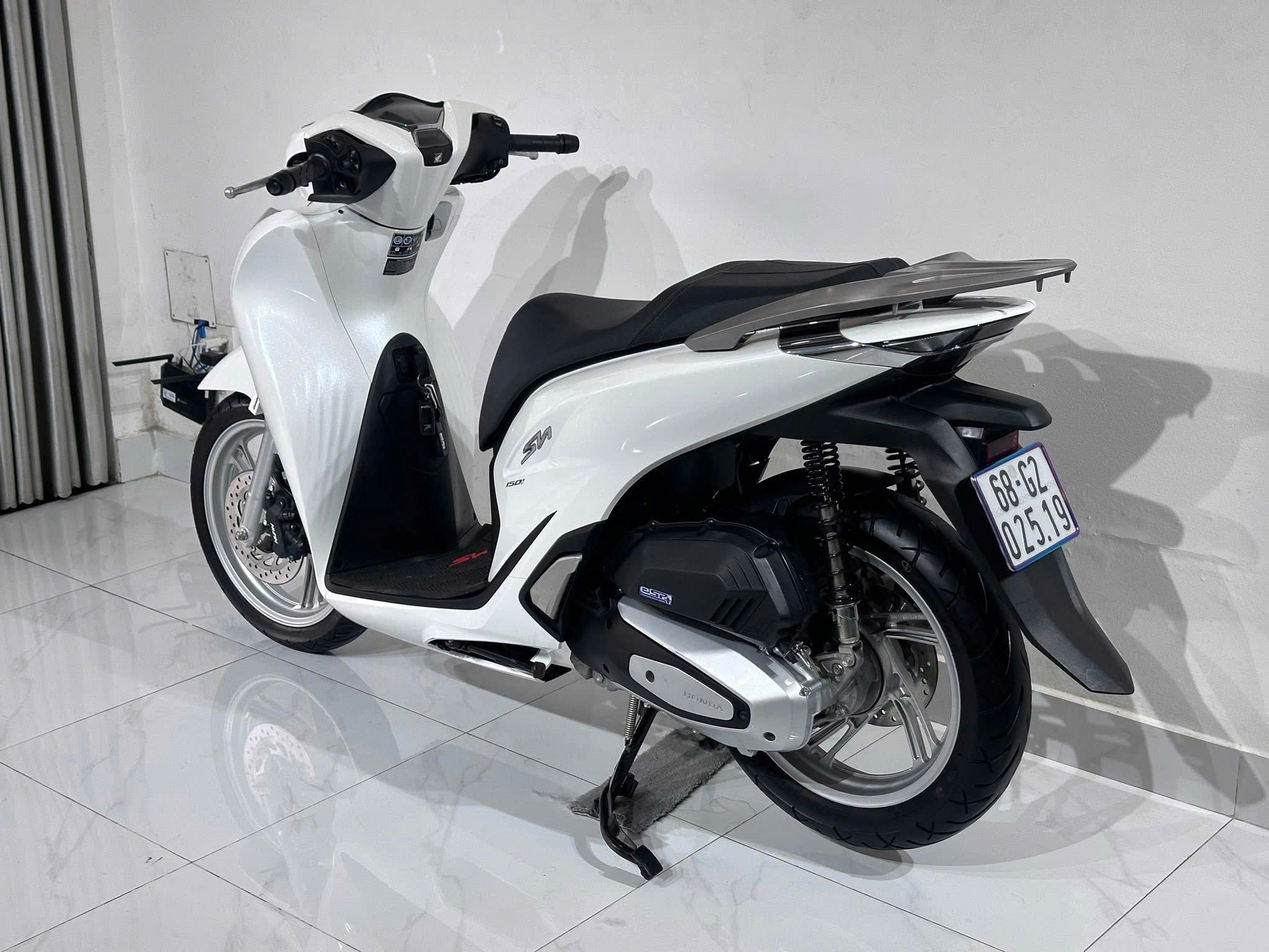Bien-so: (973, 439, 1084, 571)
